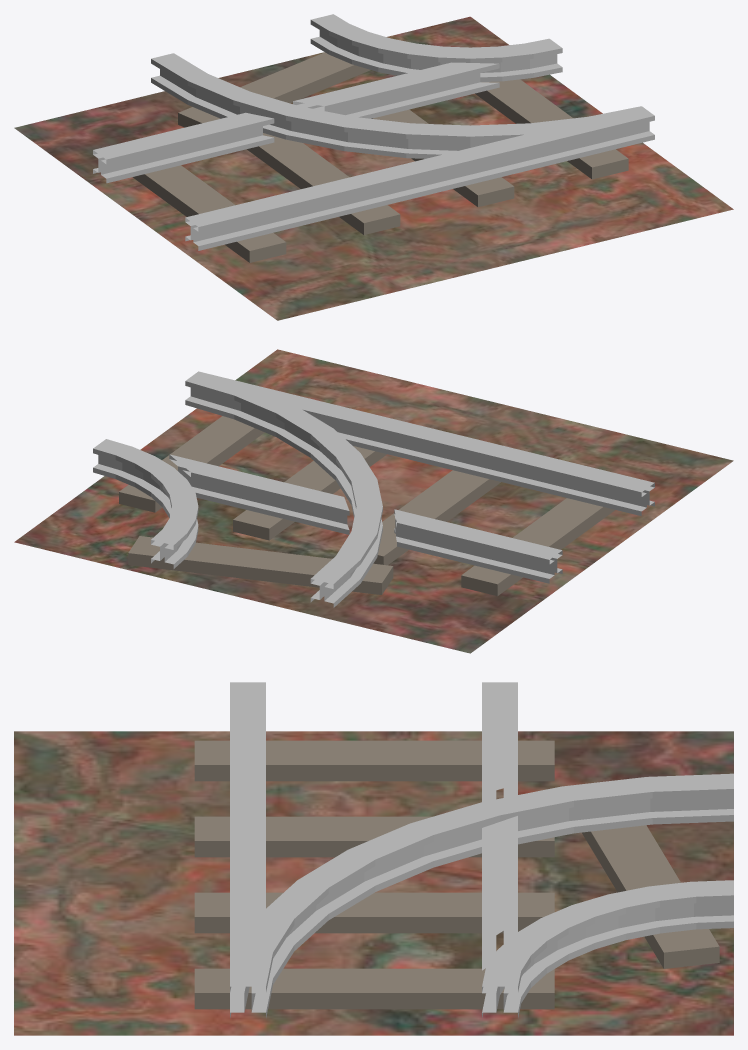
File: cave_minetracks_splitR.glb
The picture shows the model from 3 angles, top to bottom: view 1: azimuth 30°, elevation 25°; view 2: azimuth 150°, elevation 25°; view 3: azimuth 270°, elevation 25°; orthographic projection. The views are drawn at different scales.
Parts seen in each view (by area): view 1: TrackSplitR; view 2: TrackSplitR; view 3: TrackSplitR.
Part boxes in pixels (x1,y1,x2,y2): TrackSplitR: [14, 14, 733, 320]; TrackSplitR: [14, 349, 733, 653]; TrackSplitR: [14, 682, 733, 1035].
Bounding box in the file's own units: 2 × 0.15 × 2.
Materials: 3 (1 with a texture image).
